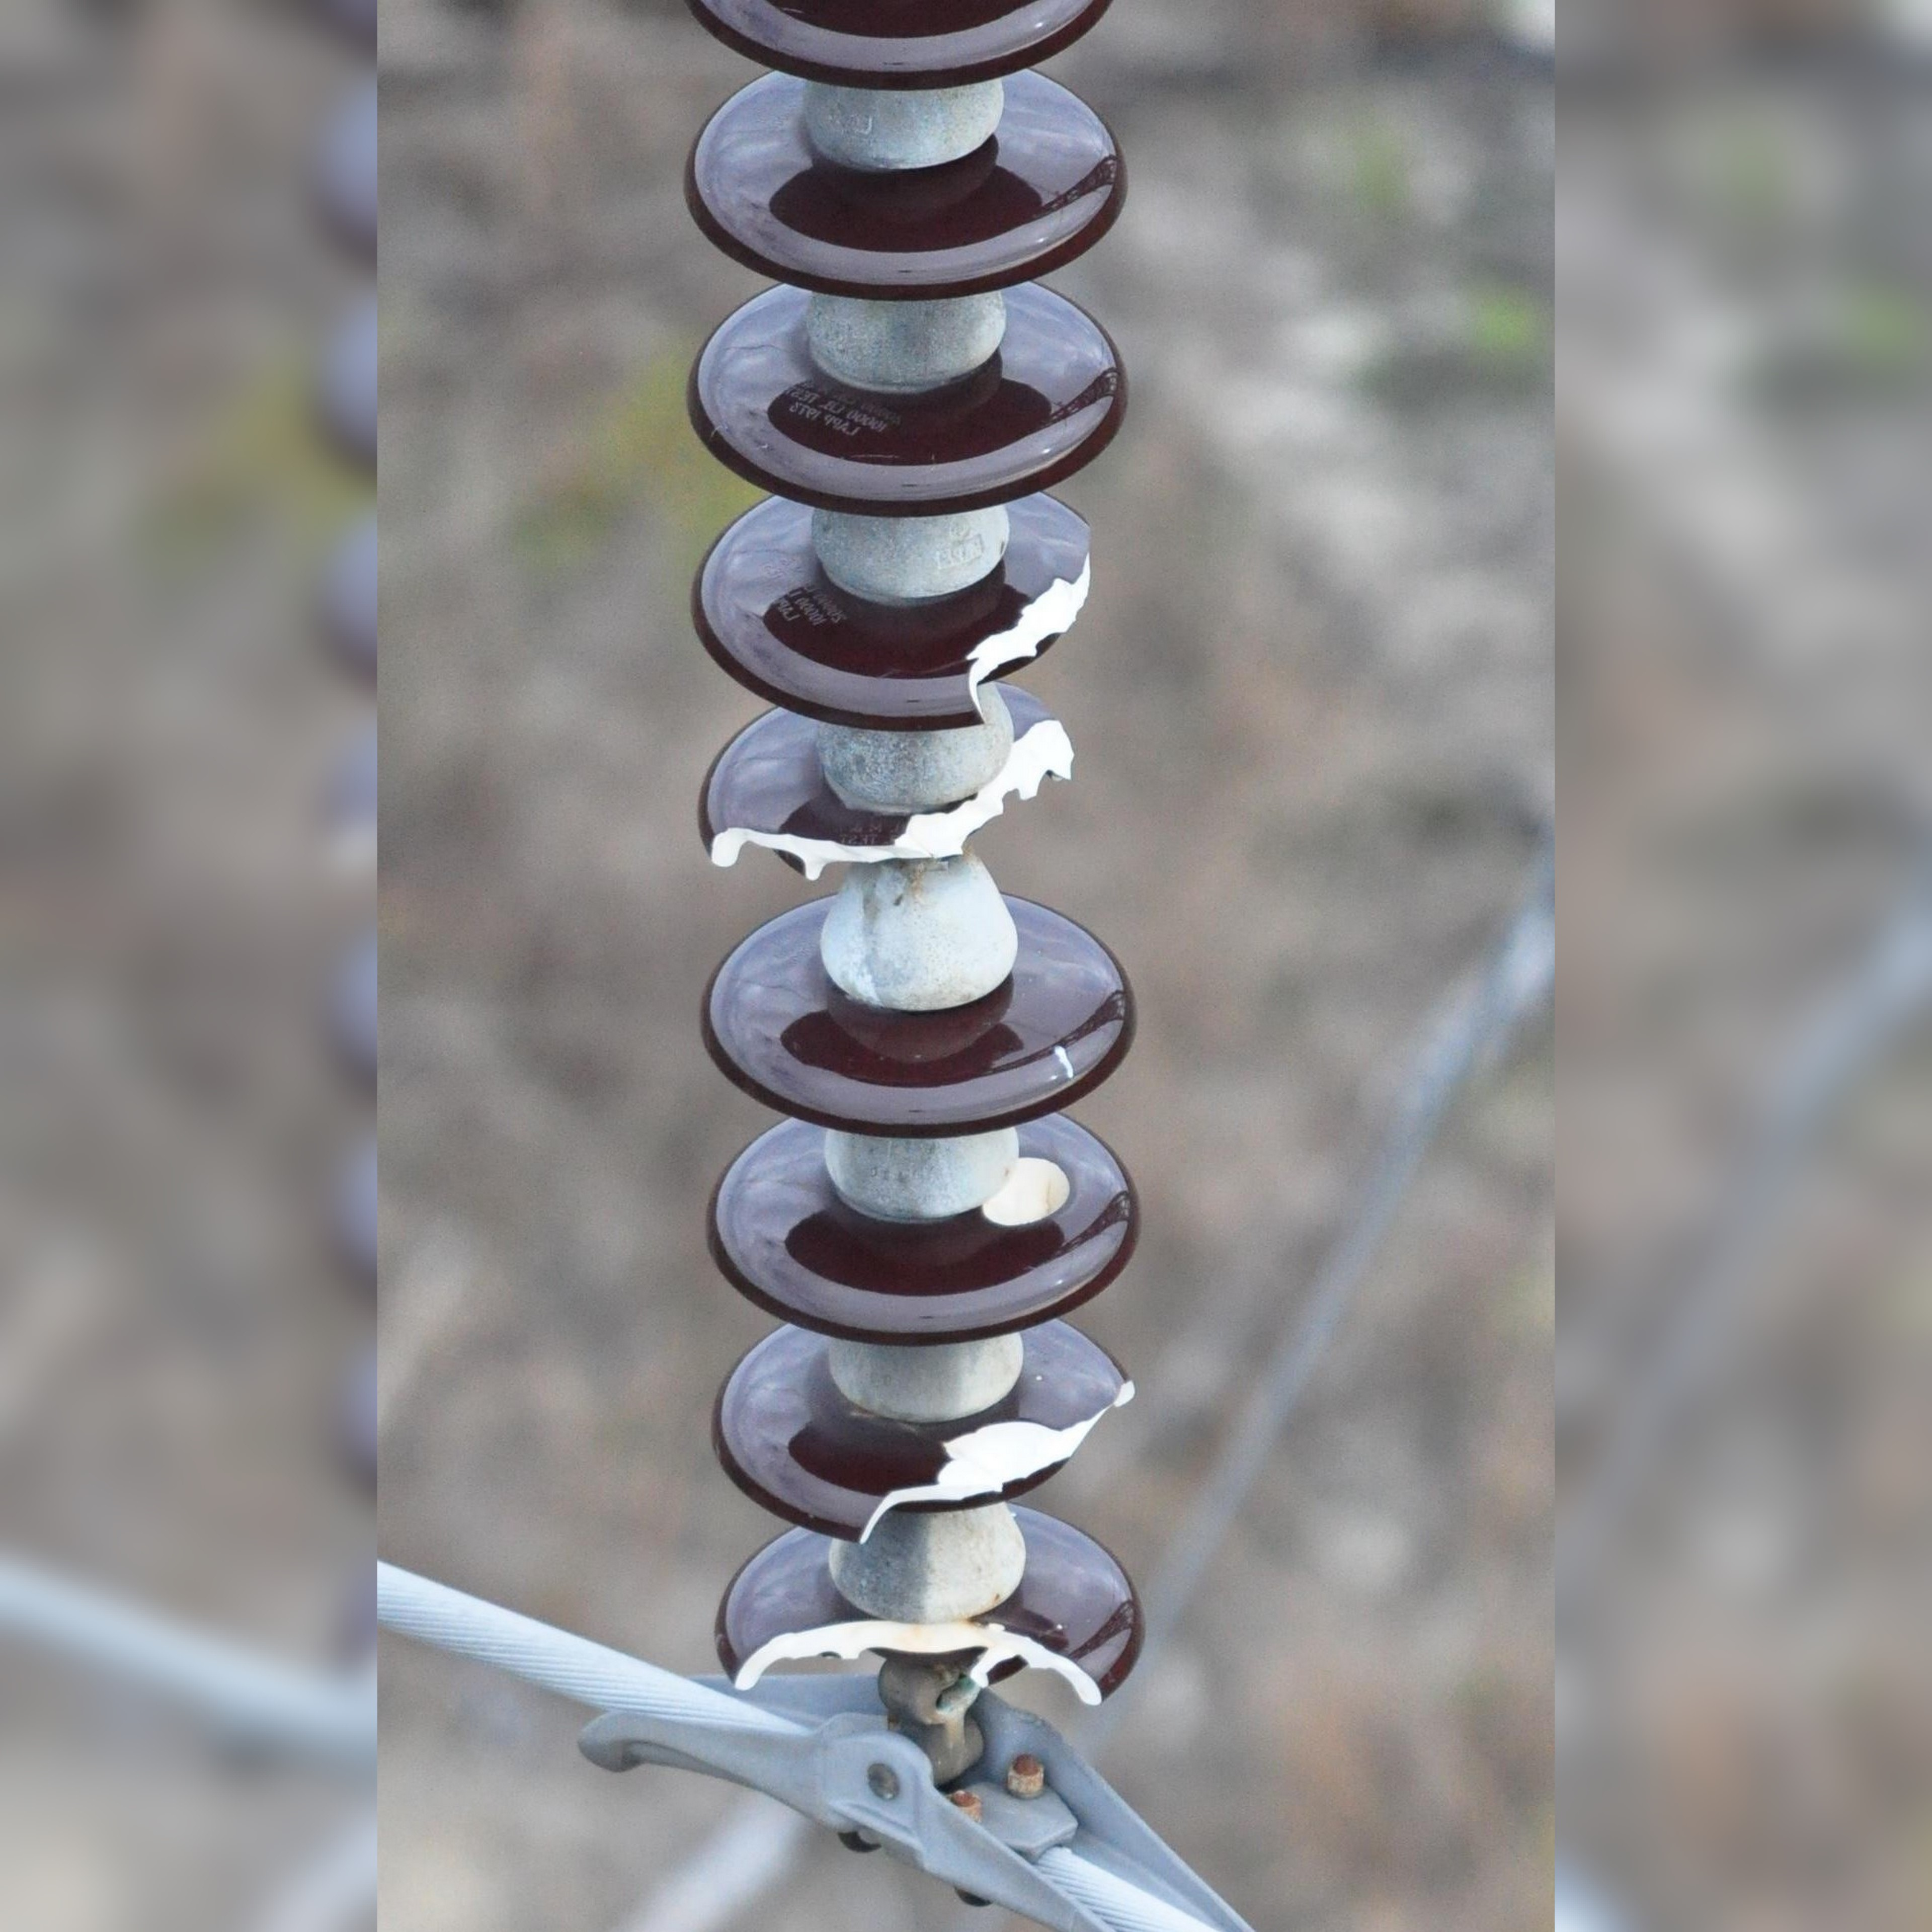insulator breakage: (681, 490, 1129, 893), (702, 1336, 1150, 1727)
